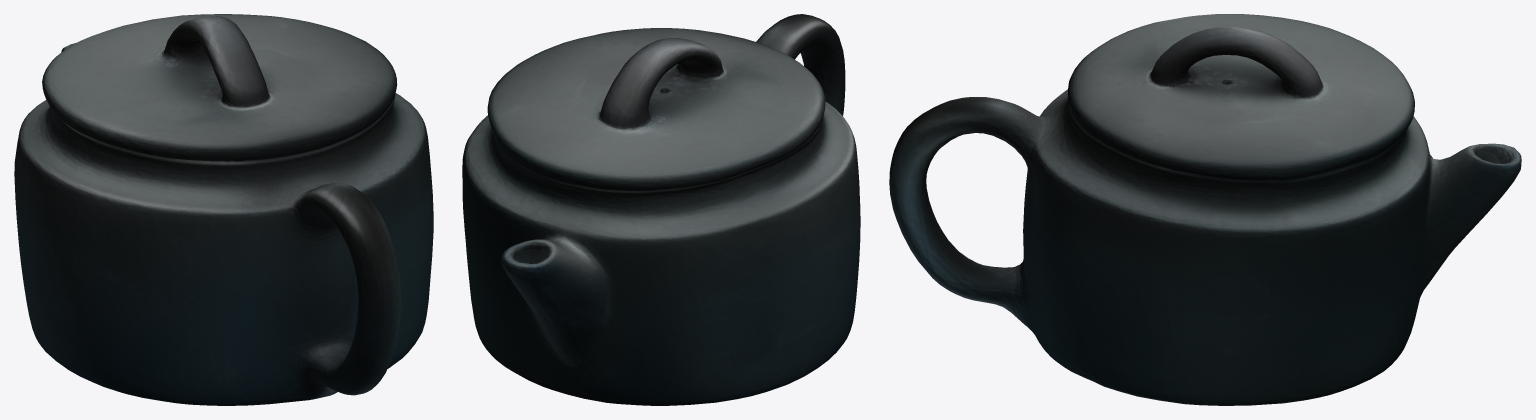
The model's file is teacup.obj.
3 views of the same model, side by side, from view 1: azimuth 30°, elevation 25°; view 2: azimuth 150°, elevation 25°; view 3: azimuth 270°, elevation 25° (orthographic). The views are drawn at different scales.
Parts seen in each view (by area): view 1: geometry_0; view 2: geometry_0; view 3: geometry_0.
Boxes of the visible parts, left/top/right/bottom form: geometry_0: left=14, top=14, right=433, bottom=405; geometry_0: left=462, top=14, right=860, bottom=405; geometry_0: left=889, top=14, right=1521, bottom=405.
Bounding box in the file's own units: 122 × 98.62 × 188.
Materials: 1 (1 with a texture image).
